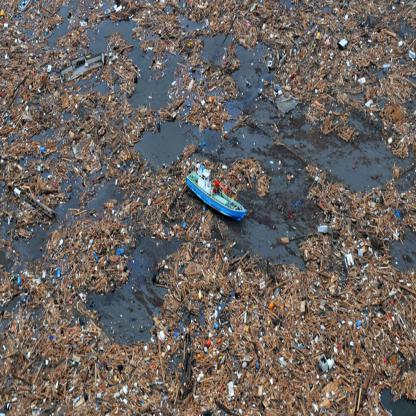Plastic: (189, 164, 253, 226)
